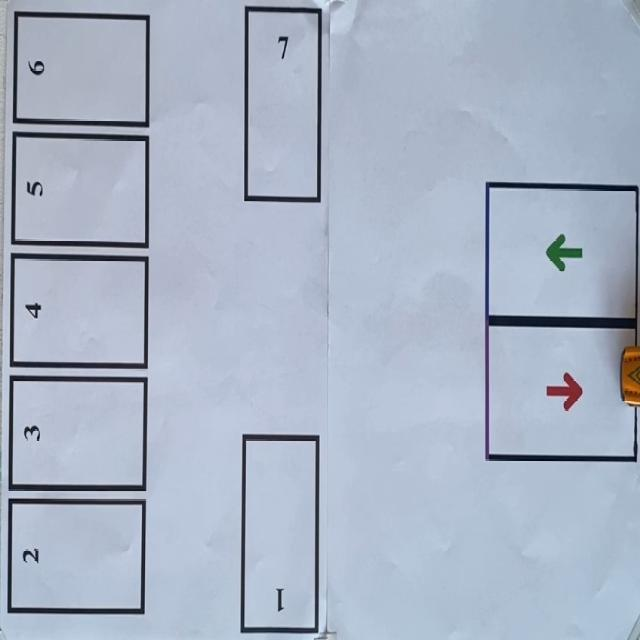car: (621, 346, 639, 406)
